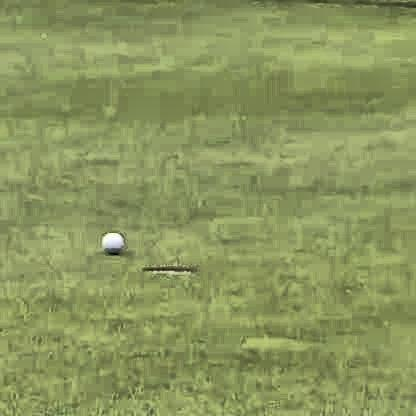golfball: (98, 228, 122, 255)
